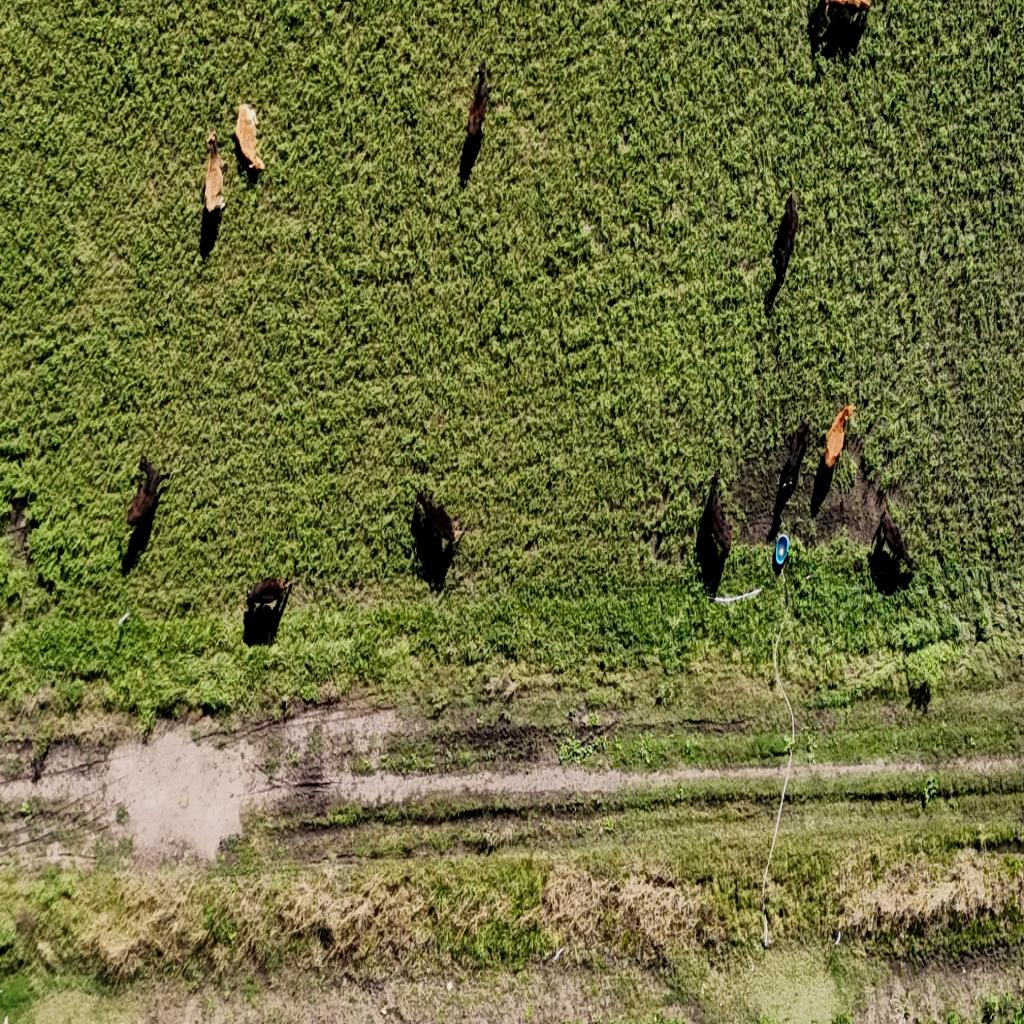cow: (121, 452, 168, 542), (772, 416, 812, 514), (415, 488, 468, 554), (874, 500, 918, 574), (698, 476, 732, 564), (232, 98, 268, 180), (818, 0, 876, 48), (200, 130, 226, 222), (774, 188, 800, 274), (824, 403, 856, 468), (466, 60, 490, 138), (244, 574, 290, 614)
